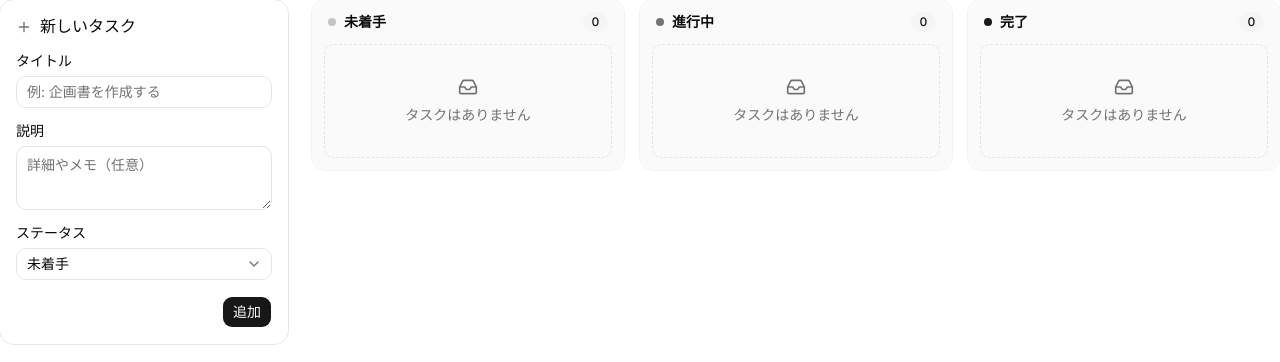
Test: タスクの追加 › タイトルと説明を入力して追加すると、未着手列にすぐ表示されフォームが空に戻る
In the field labelled "タイトル": (144, 92) [16, 76, 272, 108], type "買い物"
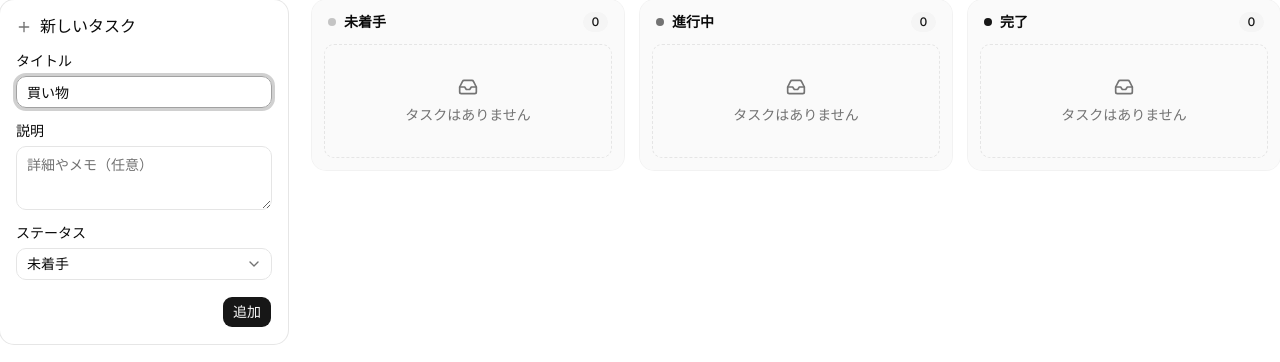
In the text box labelled "説明": (144, 178) [16, 146, 272, 210], type "牛乳を買う"
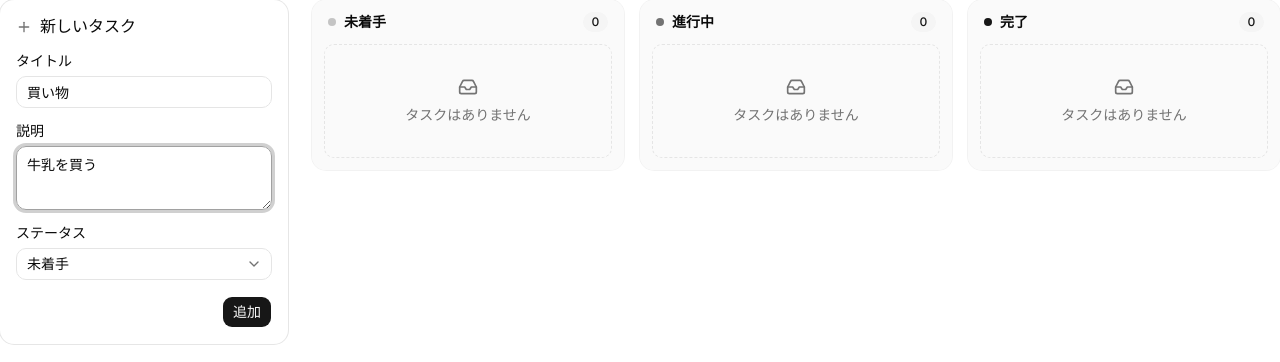
Click the button "追加": (247, 312) [222, 296, 272, 328]
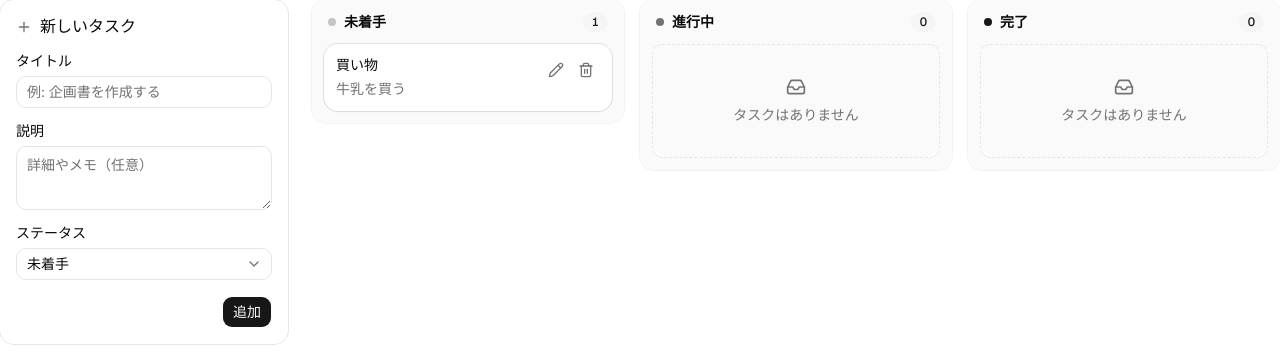
Check: the element "買い物" is shown, box [324, 44, 612, 111]
Check: the field labelled "タイトル" is empty, box [16, 76, 272, 108]
Check: the text box labelled "説明" is empty, box [16, 146, 272, 210]
